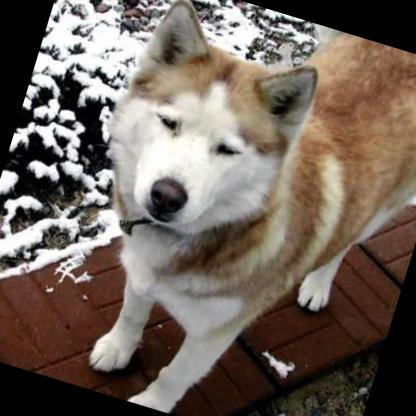Siberian_husky: (32, 0, 416, 416)
